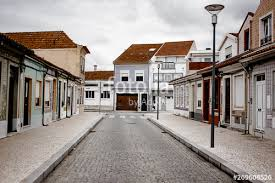strada: (1, 117, 245, 182)
striscie pedonali: (104, 115, 146, 119)
